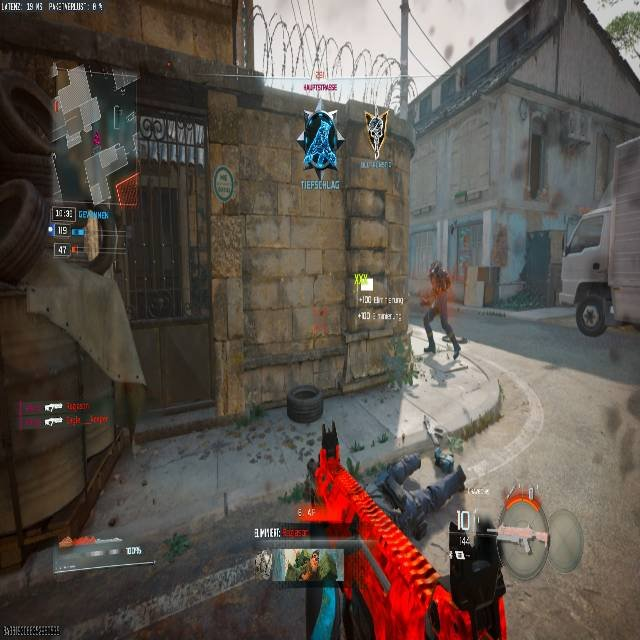head: (430, 265, 447, 283)
player: (418, 261, 463, 362), (300, 106, 339, 171)
